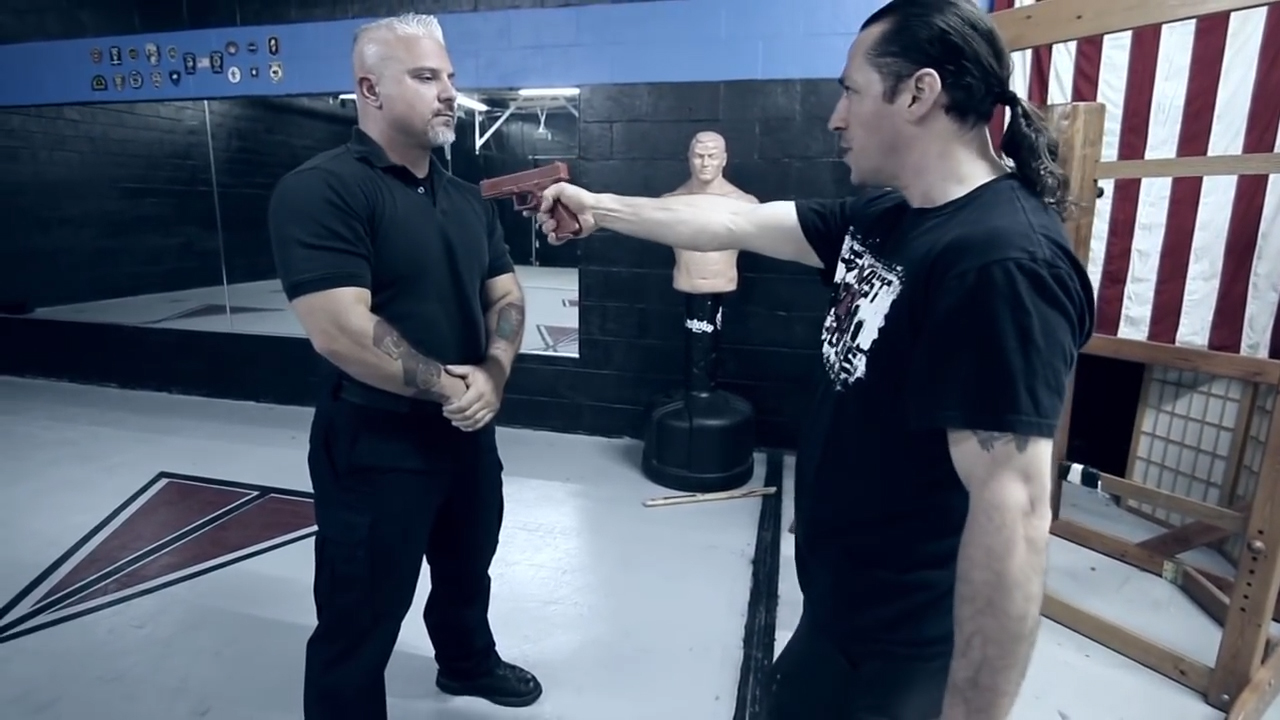pistol: (479, 158, 584, 242)
